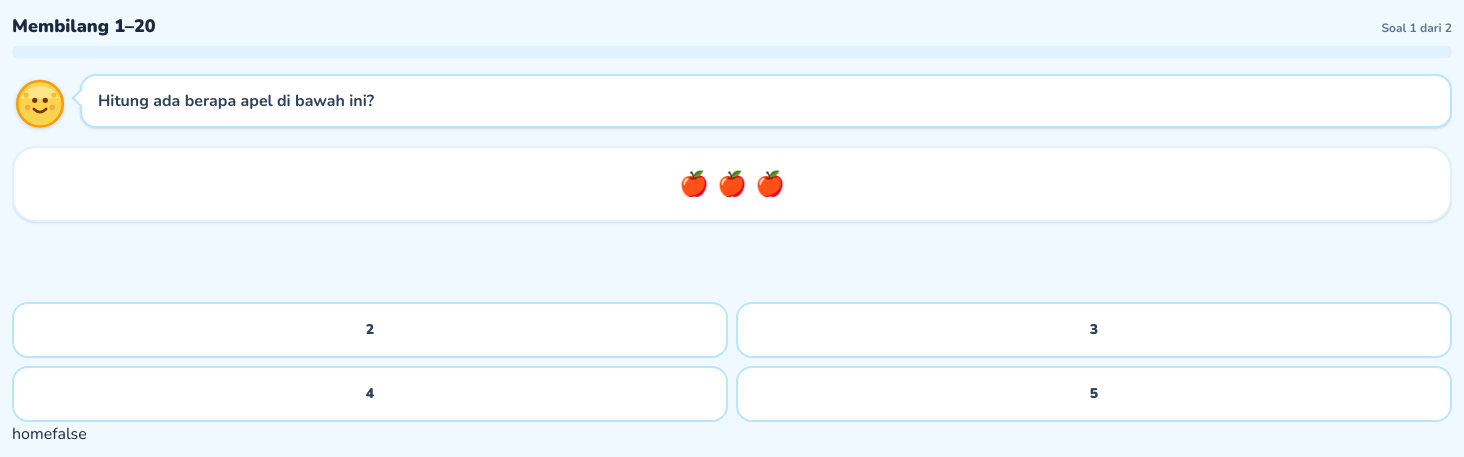
Test: ConceptLearnScreen › jawaban salah: menampilkan feedback salah dan membuka kunci setelah 600ms
Later steps or results of the test are not shown.
Click the button "2": [370, 330] box [12,302,728,358]
Wait 600 ms
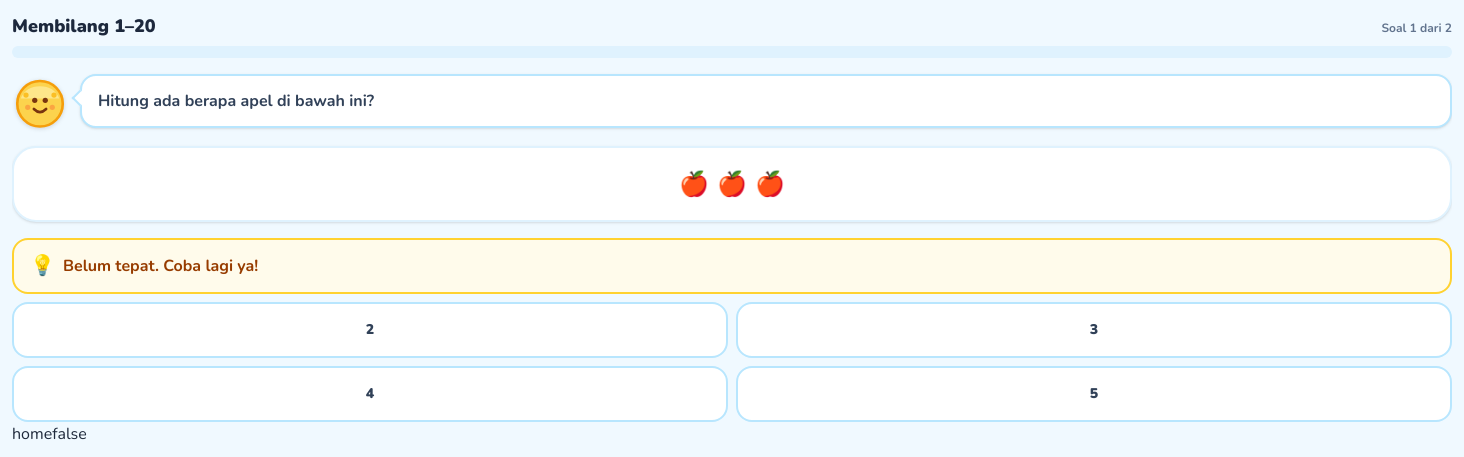
Result: the text "Belum tepat. Coba lagi ya!" is shown at [63,254,258,278]
